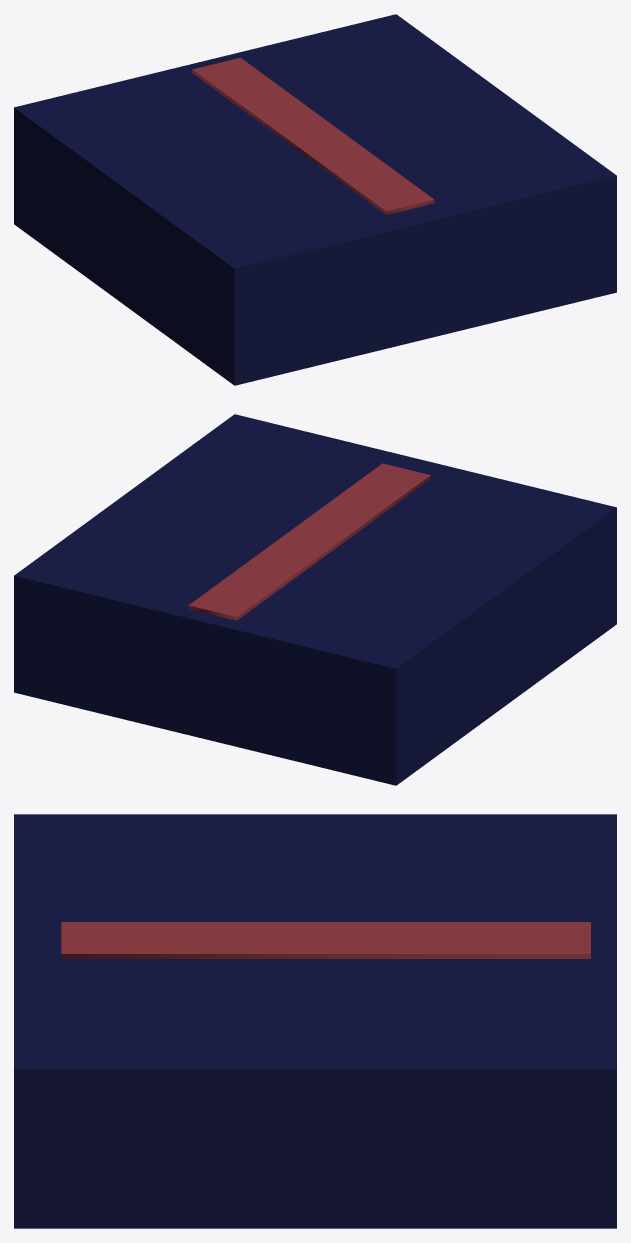
Rendered from one-pad.fbx.
3 renders of one model, top to bottom at view 1: azimuth 30°, elevation 25°; view 2: azimuth 150°, elevation 25°; view 3: azimuth 270°, elevation 25°, orthographic. The views are drawn at different scales.
Parts seen in each view (by area): view 1: Cube, Text; view 2: Cube, Text; view 3: Cube, Text.
Boxes of the visible parts, x1,y1,x2,y2 form: Cube: (14, 14, 616, 385); Text: (192, 57, 434, 214); Cube: (14, 414, 616, 785); Text: (188, 463, 430, 620); Cube: (14, 814, 616, 1228); Text: (61, 922, 590, 958).
Size of the model in its own units: 200 by 60.26 by 200.
